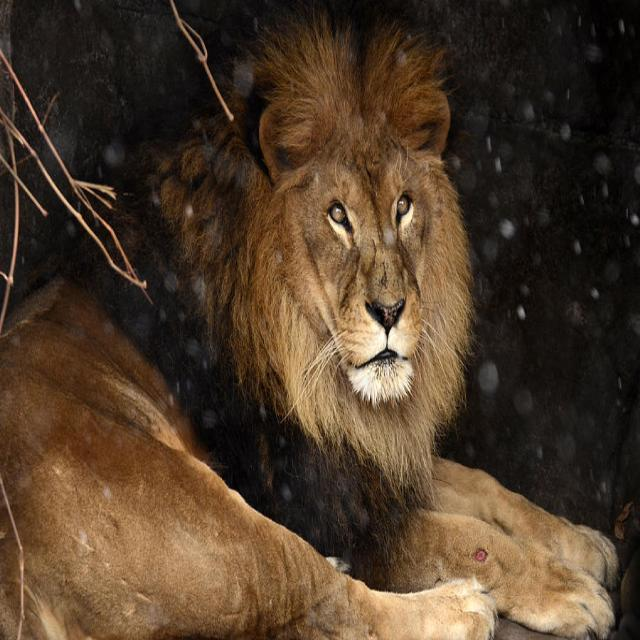lions: (7, 27, 640, 640)
